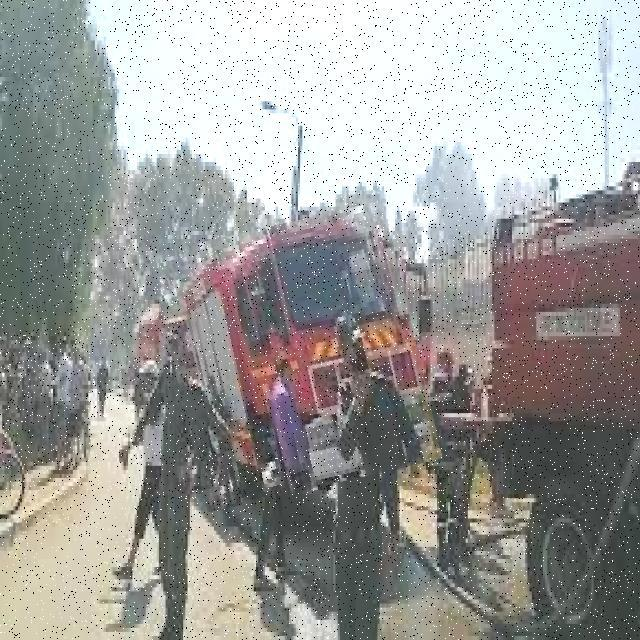pompier: (162, 212, 429, 501)
